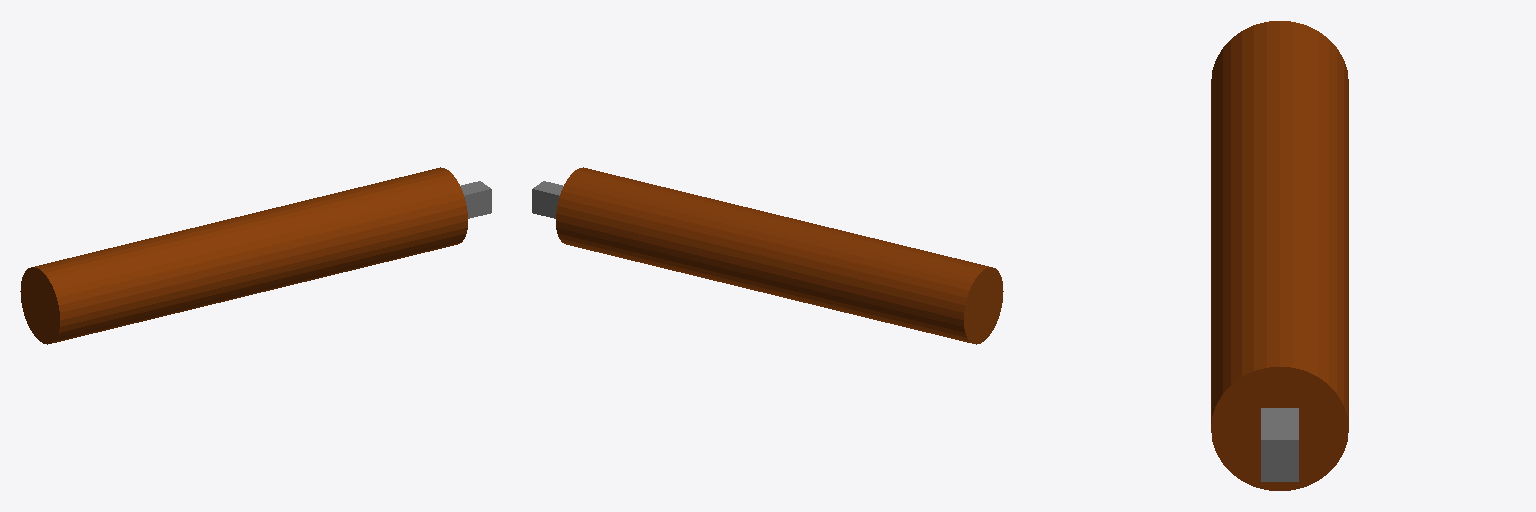
The robot description file, URDF, robot "handle_head":
<?xml version="1.0"?>
<robot name="handle_head">

  <link name="handle_head">
    <!-- Handle -->
    <visual>
              <origin xyz="0 0 0" rpy="0 -1.5707963267948966 0"/>
        <geometry>
          <cylinder length="0.14212441054992583" radius="0.011970588662771387"/>
        </geometry>
        
      <material name="brown">
        <color rgba="0.55 0.27 0.07 1.0"/>
      </material>
    </visual>
    <collision>
              <origin xyz="0 0 0" rpy="0 -1.5707963267948966 0"/>
        <geometry>
          <cylinder length="0.14212441054992583" radius="0.011970588662771387"/>
        </geometry>
        
    </collision>

    <!-- Head -->
    <visual>
              <origin xyz="0.07759293550636681 0 0" rpy="0 0 0"/>
        <geometry>
          <box size="0.013061460462807775 0.00670396532443066 0.008107984714082118"/>
        </geometry>
        
      <material name="gray">
        <color rgba="0.5 0.5 0.5 1.0"/>
      </material>
    </visual>
    <collision>
              <origin xyz="0.07759293550636681 0 0" rpy="0 0 0"/>
        <geometry>
          <box size="0.013061460462807775 0.00670396532443066 0.008107984714082118"/>
        </geometry>
        
    </collision>

    <inertial>
      <origin xyz="0.0006097962537480737 0 0" rpy="0 0 0"/>
      <mass value="0.030891741528658843"/>
      <inertia ixx="2.15381948336112e-06" iyy="6.660194787710079e-05" izz="6.66015271416955e-05" ixy="0" ixz="0" iyz="0"/>
    </inertial>
  </link>

</robot>

--- What the picture shows (computed from the rendered views, not written in the file) ---
The picture shows the robot from 3 angles, left to right: view 1: azimuth 30°, elevation 25°; view 2: azimuth 150°, elevation 25°; view 3: azimuth 270°, elevation 25°; orthographic projection.
Model handle_head with 1 links and 0 joints (none), rooted at handle_head, posed all joints at 0.
Links seen in each view (by area): view 1: handle_head; view 2: handle_head; view 3: handle_head.
Boxes of the visible links, x1,y1,x2,y2 form: handle_head: (20,167,491,344); handle_head: (532,167,1003,344); handle_head: (1211,21,1348,490).
Size in the robot's own frame: 0.1552 by 0.0239 by 0.0239 metres.
Geometry: primitives only (box / cylinder / sphere), no mesh files.
